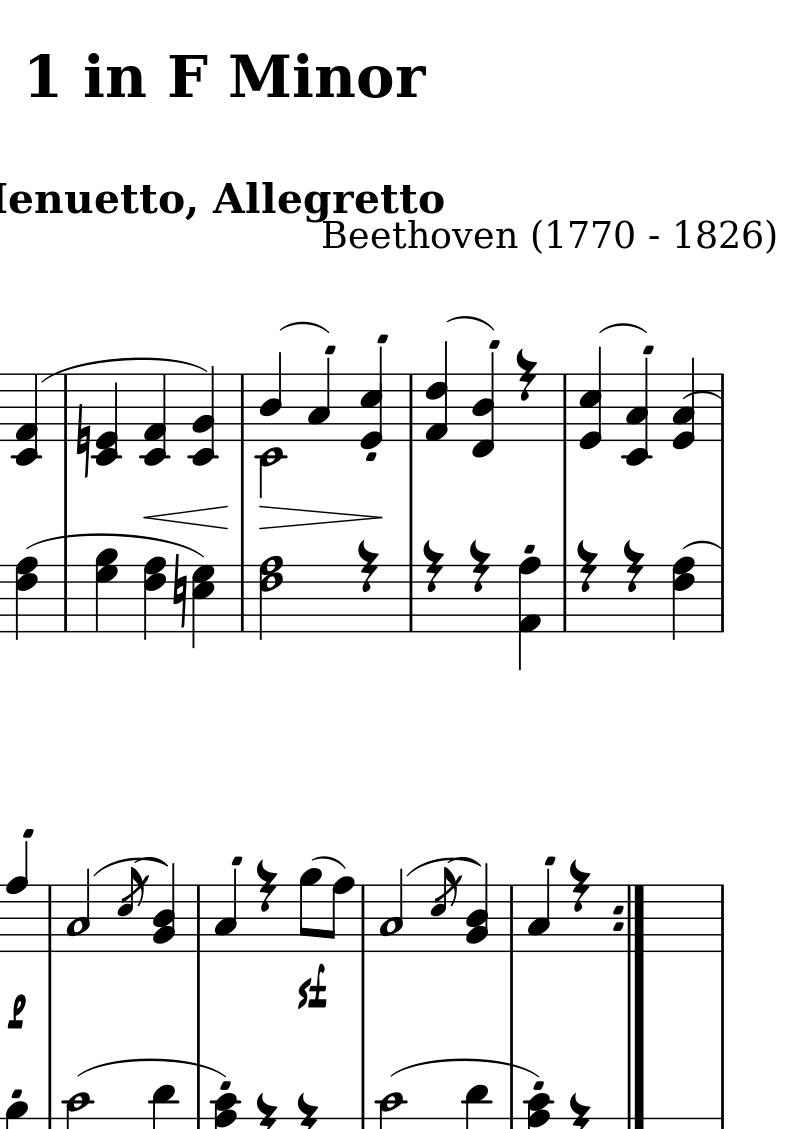2_3: (377, 868, 406, 955), (64, 868, 92, 955)
2_6_8: (258, 554, 285, 639)
4_-1_4: (470, 351, 497, 459)
4_-2_0: (91, 372, 122, 467)
4_-2_1: (11, 371, 43, 468), (138, 373, 171, 467)
4_-2_2: (188, 365, 219, 467)
4_-2_3: (619, 358, 655, 467)
4_0_3: (672, 356, 698, 450)
4_0_5: (359, 345, 385, 450), (578, 346, 604, 450)
4_1_6: (425, 341, 450, 444)
4_1_8: (517, 556, 543, 669)
4_2_4: (151, 861, 176, 954), (464, 863, 489, 954)
4_3: (526, 868, 551, 954), (213, 868, 238, 953), (306, 358, 331, 441)
4_4: (258, 351, 284, 441)
4_5_7: (190, 563, 217, 652)
4_6_8: (14, 555, 40, 640), (142, 555, 168, 639), (671, 554, 695, 642)
4_7_9: (95, 546, 119, 634)
4_8: (5, 841, 31, 954)
8_8: (323, 875, 357, 955)
8_9: (297, 869, 321, 955)
Acciaccature: (118, 863, 149, 952), (432, 863, 462, 952)
Crescendo_hairpin: (141, 506, 231, 532)
Diminuendo_hairpin: (259, 504, 381, 529)
Natural: (169, 551, 187, 635), (74, 401, 91, 479)
Rests4: (420, 538, 445, 595), (514, 348, 539, 404), (620, 539, 645, 595), (356, 538, 380, 595), (467, 538, 491, 595), (575, 539, 599, 595), (254, 859, 278, 915), (569, 860, 592, 916)
RightRepeatSign: (611, 884, 646, 951)
Single_barline: (190, 884, 210, 949), (712, 884, 731, 951), (503, 884, 521, 949), (402, 375, 419, 441), (402, 564, 419, 630), (714, 563, 730, 631), (556, 373, 572, 440), (57, 564, 73, 631), (234, 373, 250, 438), (42, 885, 58, 950), (235, 564, 250, 631), (557, 565, 572, 630), (58, 377, 73, 441), (715, 393, 729, 442)
Slur: (24, 532, 210, 563), (41, 354, 206, 383), (388, 1057, 542, 1079), (77, 1057, 225, 1078), (404, 856, 479, 877), (92, 857, 165, 875), (448, 313, 494, 330), (277, 320, 332, 334), (597, 321, 649, 335), (312, 855, 348, 871), (683, 540, 722, 552), (683, 391, 725, 402)
p: (6, 992, 28, 1032)
sf: (296, 963, 328, 1011)
